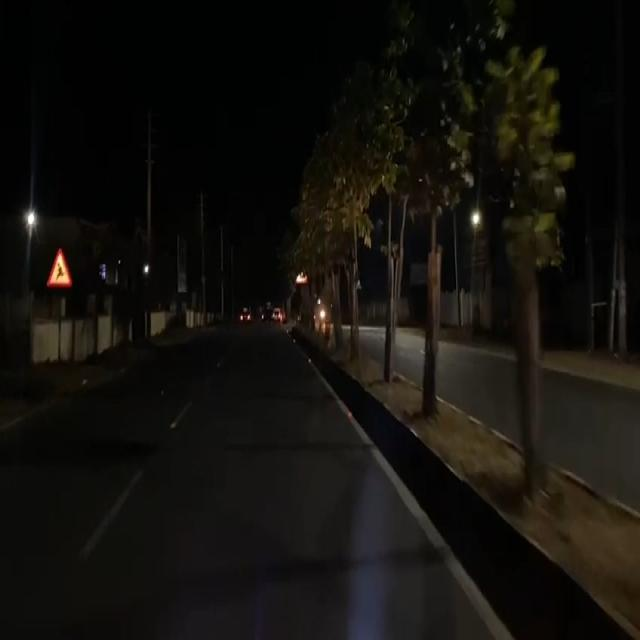bien_cam: (44, 246, 73, 291)
